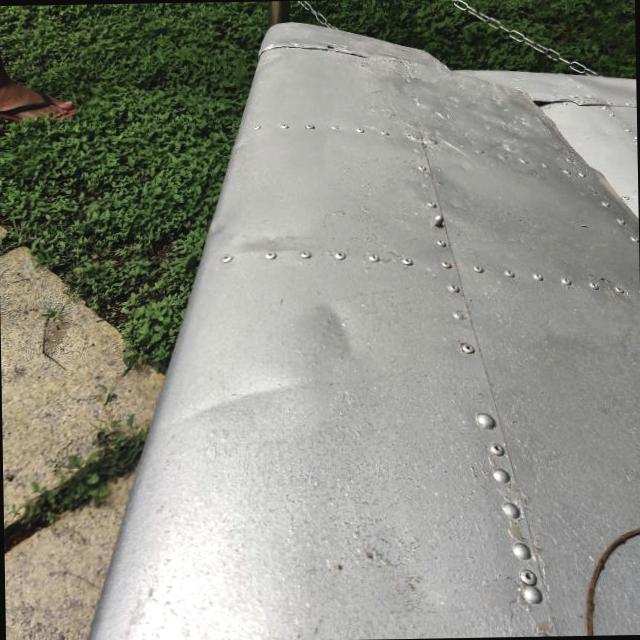dent: (158, 346, 322, 453), (285, 276, 381, 369)
